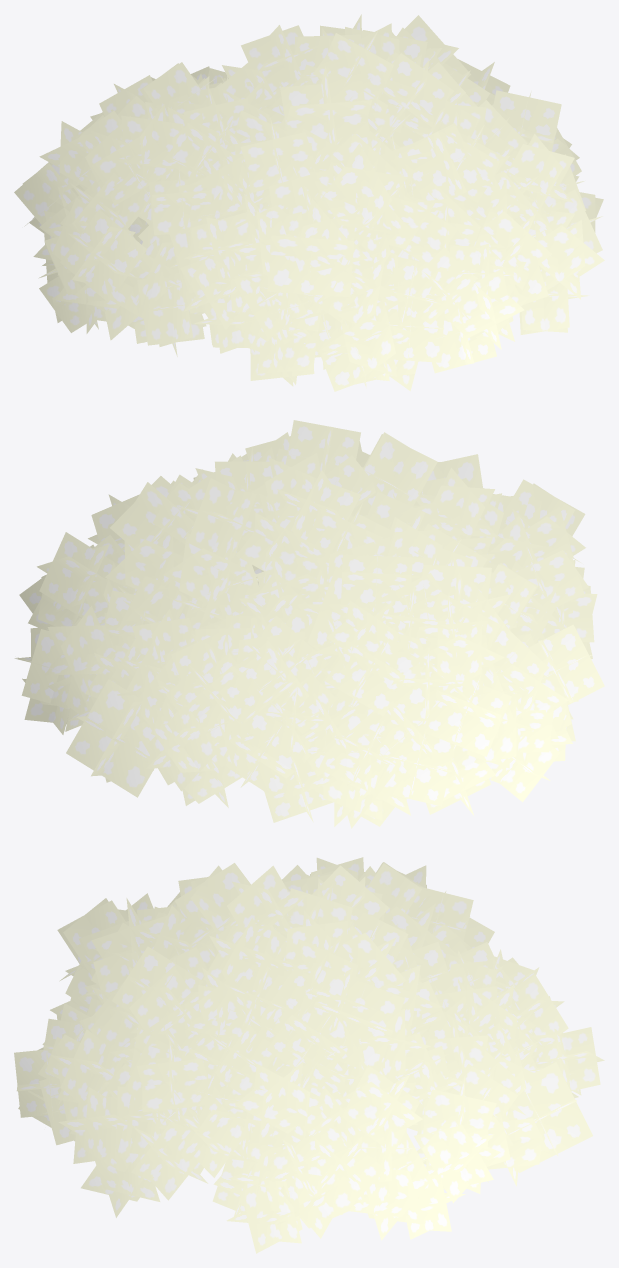
The model's file is Bush_82.glb.
3 views of the same model, one above another, from view 1: azimuth 30°, elevation 25°; view 2: azimuth 150°, elevation 25°; view 3: azimuth 270°, elevation 25° (orthographic). The views are drawn at different scales.
Visible parts, largest first — view 1: SM_Env_Bush_02_Leaves_LOD1; view 2: SM_Env_Bush_02_Leaves_LOD1; view 3: SM_Env_Bush_02_Leaves_LOD1.
Part boxes in pixels (left/top/right/bottom): SM_Env_Bush_02_Leaves_LOD1: left=14, top=14, right=604, bottom=391; SM_Env_Bush_02_Leaves_LOD1: left=14, top=420, right=604, bottom=828; SM_Env_Bush_02_Leaves_LOD1: left=14, top=857, right=604, bottom=1253.
Bounding box in the file's own units: 1.84 × 0.9418 × 1.79.
1 material, 1 textured.
